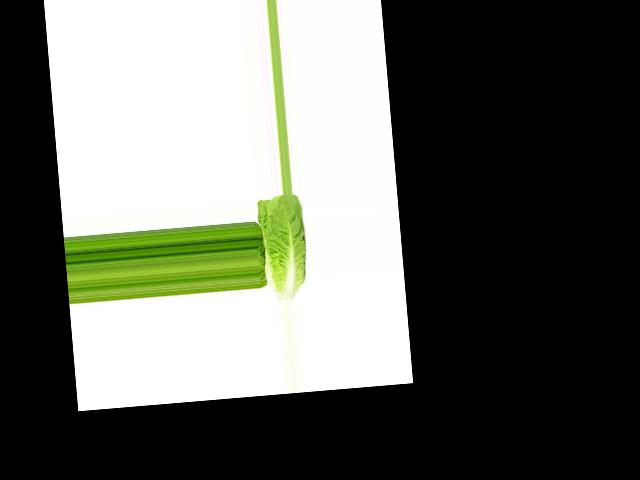lettuce: (258, 191, 317, 301)
